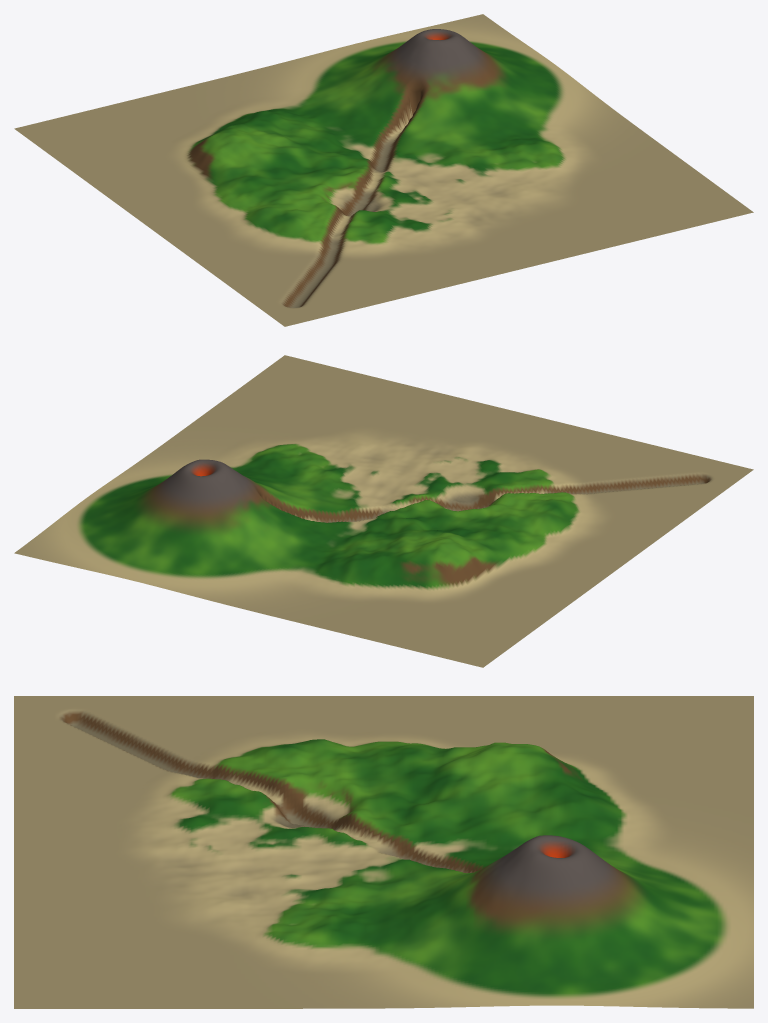
File: jungle_terrain.glb
The picture shows the model from 3 angles, top to bottom: view 1: azimuth 30°, elevation 25°; view 2: azimuth 150°, elevation 25°; view 3: azimuth 270°, elevation 25°; orthographic projection. The views are drawn at different scales.
Visible parts, largest first — view 1: JungleTerrain; view 2: JungleTerrain; view 3: JungleTerrain.
Part boxes in pixels (x1,y1,x2,y2): JungleTerrain: (14,14,753,326); JungleTerrain: (14,355,753,667); JungleTerrain: (14,696,753,1008).
Bounding box in the file's own units: 600 × 89.21 × 600.
